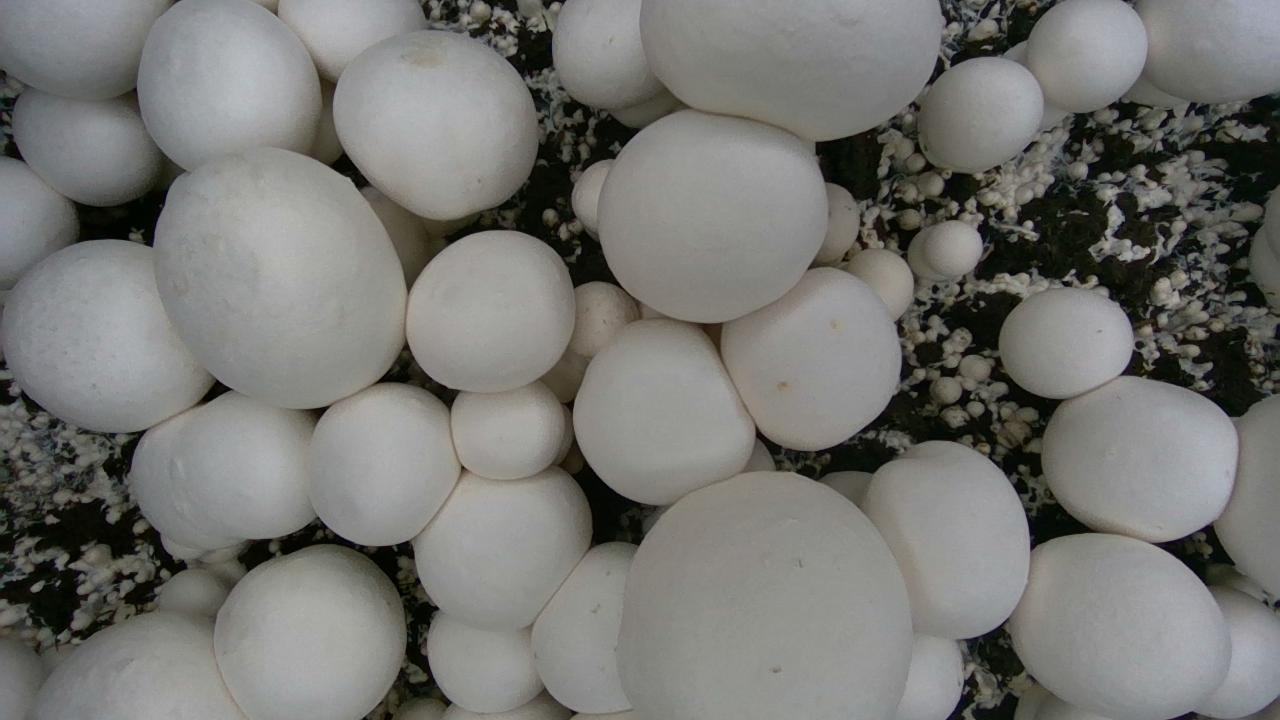WB: (617, 472, 912, 718), (153, 147, 406, 408), (598, 109, 827, 322), (640, 0, 941, 140), (1009, 533, 1231, 718), (2, 240, 212, 431), (333, 30, 537, 220), (573, 319, 755, 504), (214, 544, 405, 718), (721, 268, 901, 450), (1041, 376, 1238, 542), (863, 442, 1029, 638), (137, 0, 321, 169), (129, 390, 315, 550), (412, 467, 591, 630), (406, 230, 574, 392), (308, 383, 460, 545), (29, 611, 245, 719), (531, 542, 637, 712), (12, 88, 161, 205), (999, 288, 1133, 398), (1136, 0, 1279, 103), (918, 57, 1043, 172), (1027, 0, 1147, 111), (1214, 394, 1279, 597), (277, 0, 427, 81), (552, 0, 663, 108), (427, 611, 542, 712), (451, 380, 565, 480), (1197, 585, 1279, 718), (895, 633, 963, 719), (569, 281, 640, 357), (848, 249, 913, 319), (157, 569, 229, 618), (923, 220, 982, 276)
